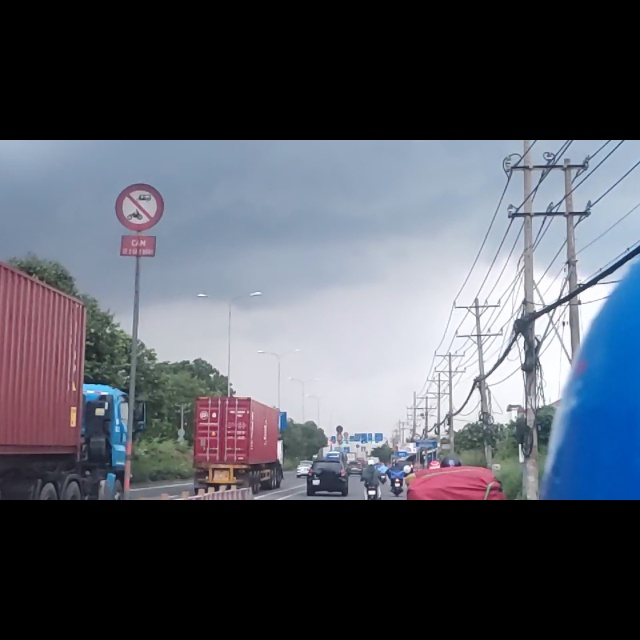bien_hieu_lenh: (115, 76, 165, 161)
